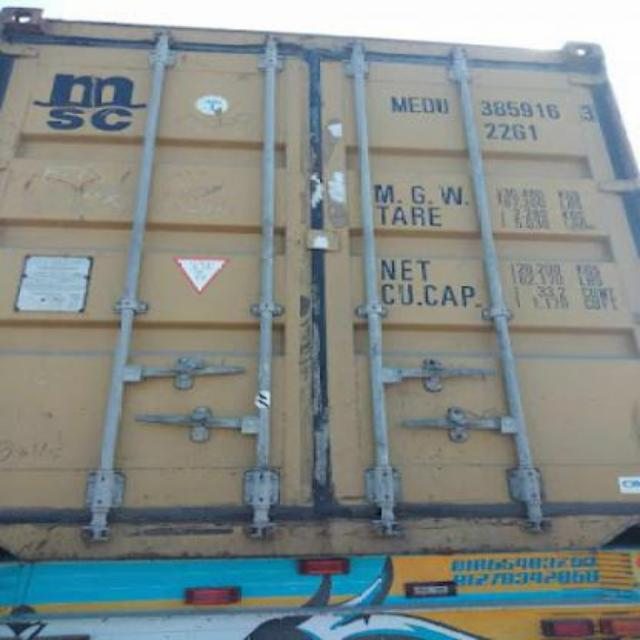1: (532, 95, 546, 119)
3: (472, 87, 492, 117), (578, 100, 598, 124)
5: (502, 87, 518, 117)
6: (546, 95, 560, 119)
8: (491, 94, 504, 116)
9: (518, 90, 534, 120)
D: (421, 88, 434, 114)
E: (404, 87, 420, 117)
M: (387, 88, 408, 114)
U: (432, 94, 452, 115)
